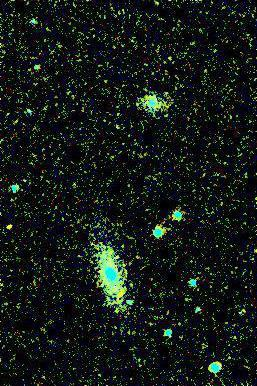star: (0, 210, 24, 240)
